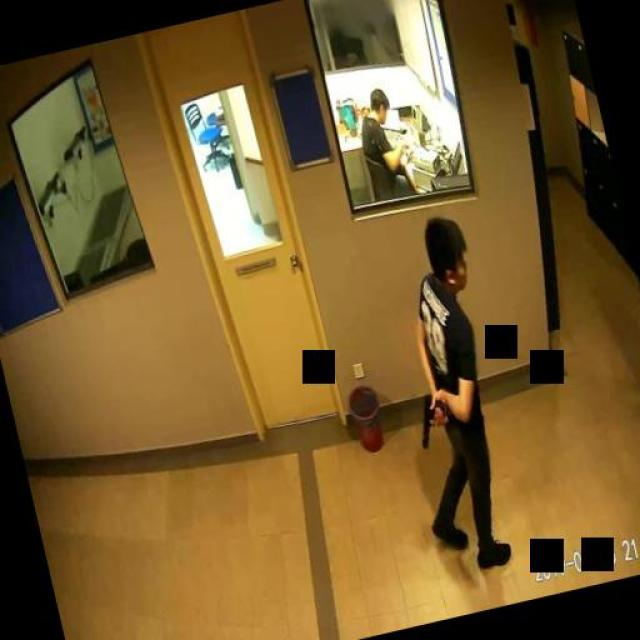gun: (410, 392, 450, 448)
